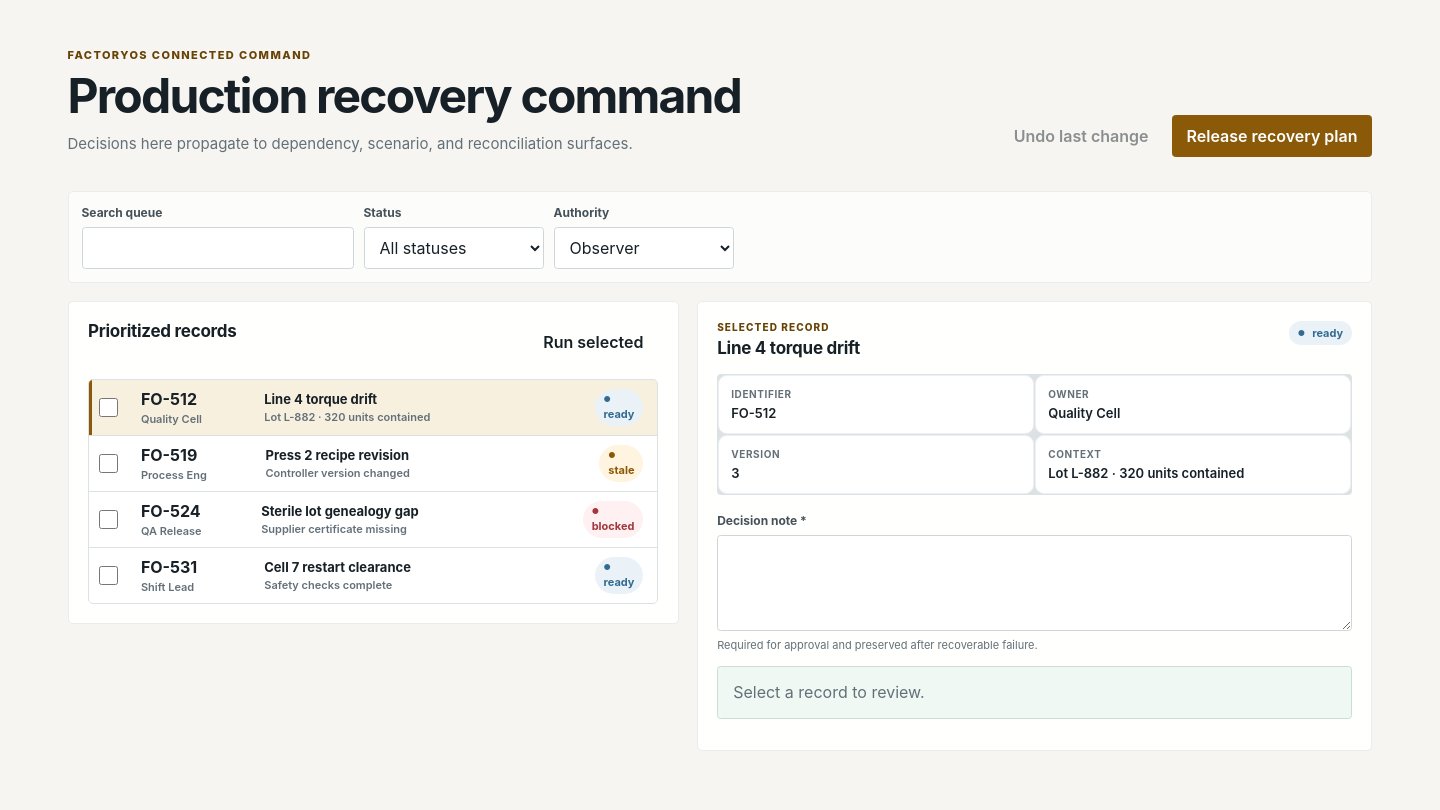
Test case: Production recovery command › filters the queue and offers recovery from an empty result
This screenshot has width=1440, height=810.
In the field labelled "Search queue": (218, 248) [82,227,354,269], type "not-present"
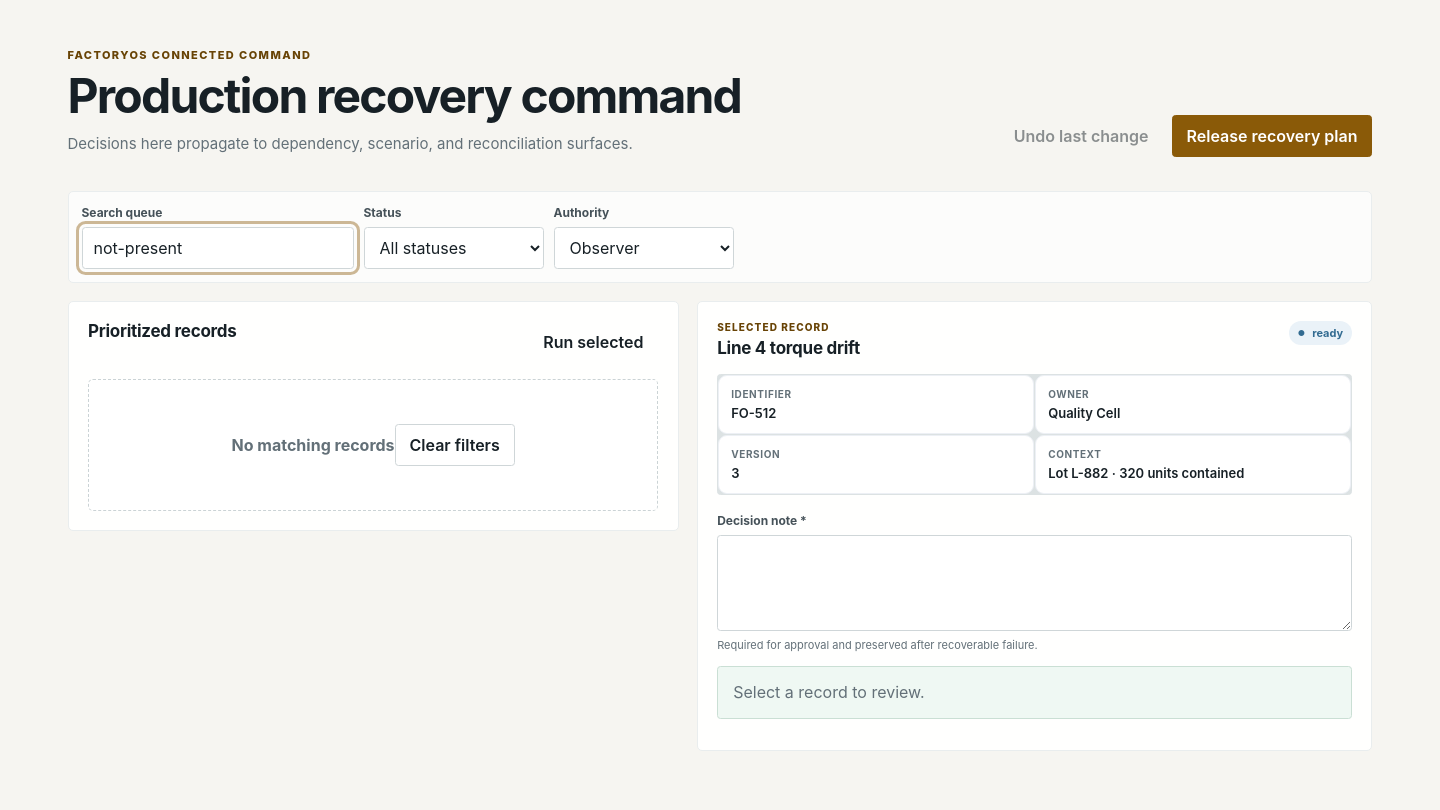
expect the text "No matching records" is shown: met, box [232,435,395,455]
Click the button "Clear filters": click(455, 445) [395,424,515,466]
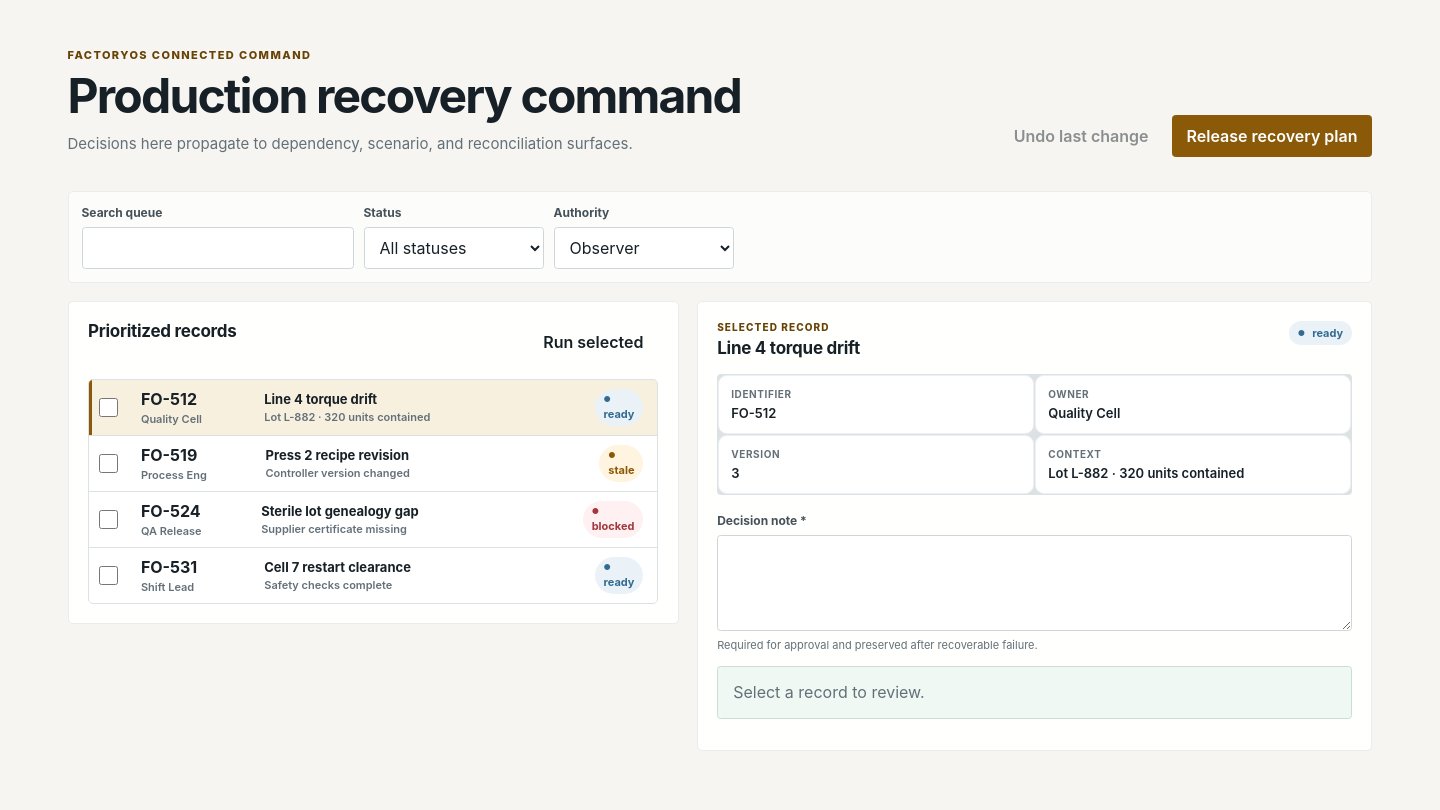
expect the text "Line 4 torque drift" is shown 2 times: met, box [264,391,377,407]; [717,338,860,358]
